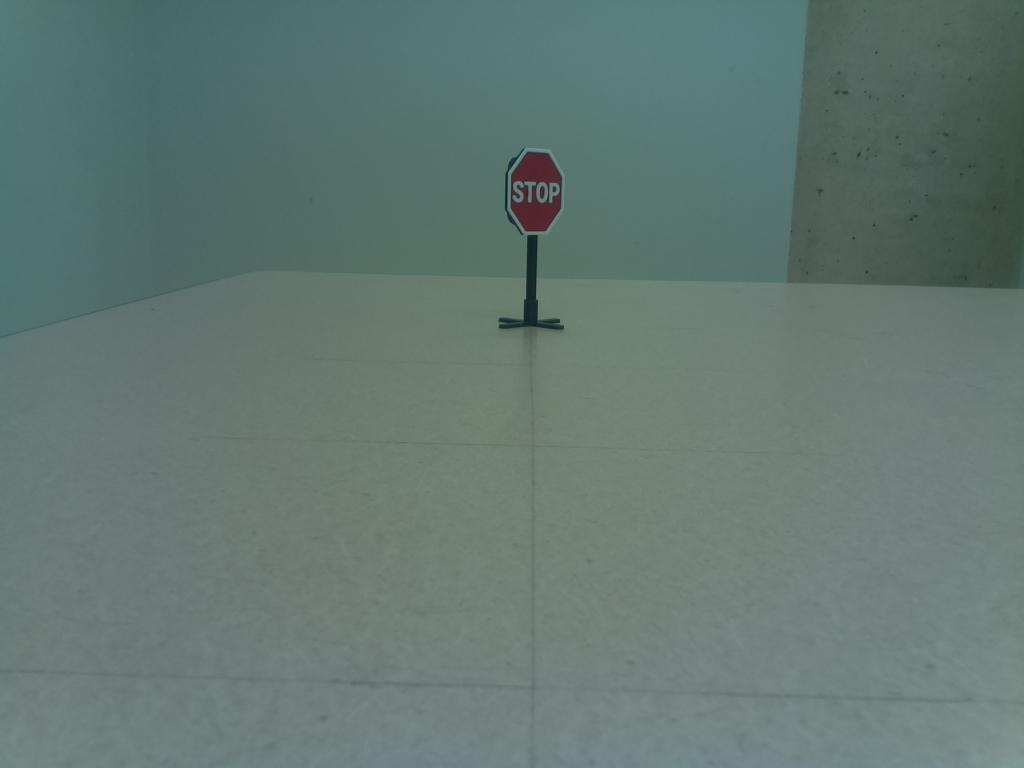sign_stop: (500, 146, 570, 241)
